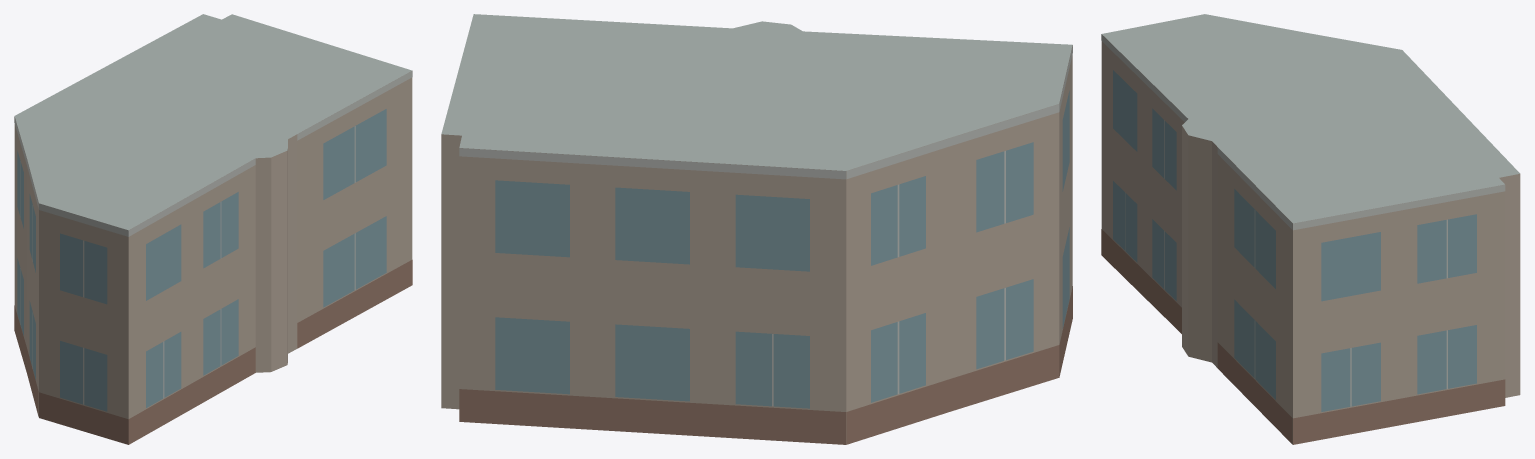
The model's file is survey-upis-32868368.glb.
3 views of the same model, side by side, from view 1: azimuth 30°, elevation 25°; view 2: azimuth 150°, elevation 25°; view 3: azimuth 270°, elevation 25° (orthographic). The views are drawn at different scales.
Parts seen in each view (by area): view 1: survey-upis-32868368.tmp; view 2: survey-upis-32868368.tmp; view 3: survey-upis-32868368.tmp.
Boxes of the visible parts, x1=… form: survey-upis-32868368.tmp: x1=14, y1=14, x2=412, y2=444; survey-upis-32868368.tmp: x1=441, y1=14, x2=1072, y2=444; survey-upis-32868368.tmp: x1=1101, y1=14, x2=1520, y2=444.
Bounding box in the file's own units: 16.04 × 7.9 × 13.56.
